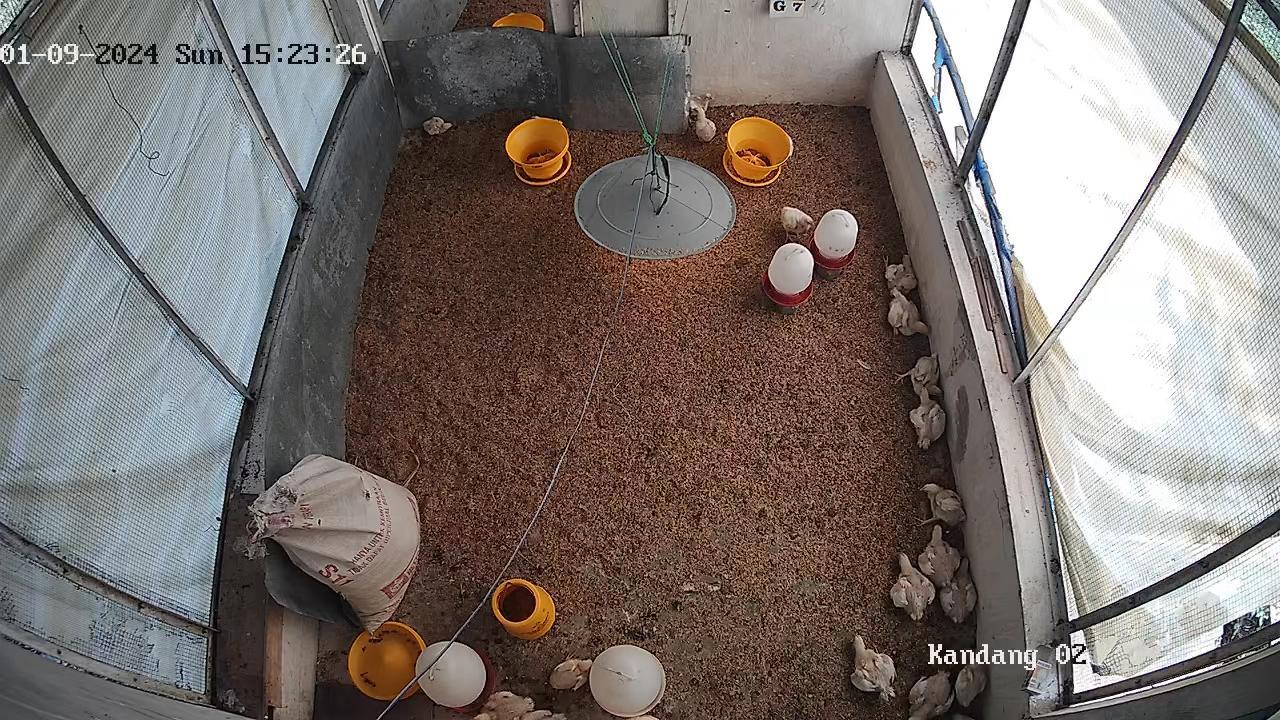chicken: (889, 552, 936, 621), (850, 633, 896, 703), (917, 524, 960, 587), (940, 556, 978, 624), (909, 384, 947, 451), (908, 668, 951, 720), (886, 286, 930, 336), (920, 484, 967, 525), (473, 690, 535, 720), (955, 654, 986, 708), (548, 655, 594, 691), (910, 351, 942, 400), (885, 254, 917, 297), (781, 205, 817, 233), (693, 106, 716, 142), (423, 115, 453, 137), (688, 92, 712, 114), (521, 710, 569, 720)
